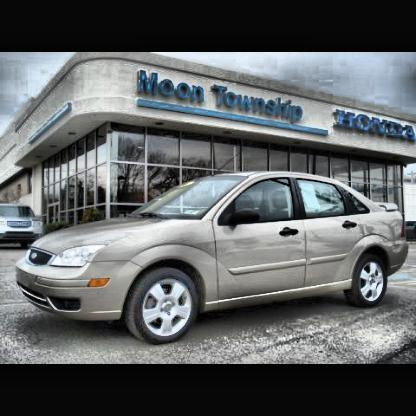Ford Focus Sedan 2007: (19, 172, 409, 345)
